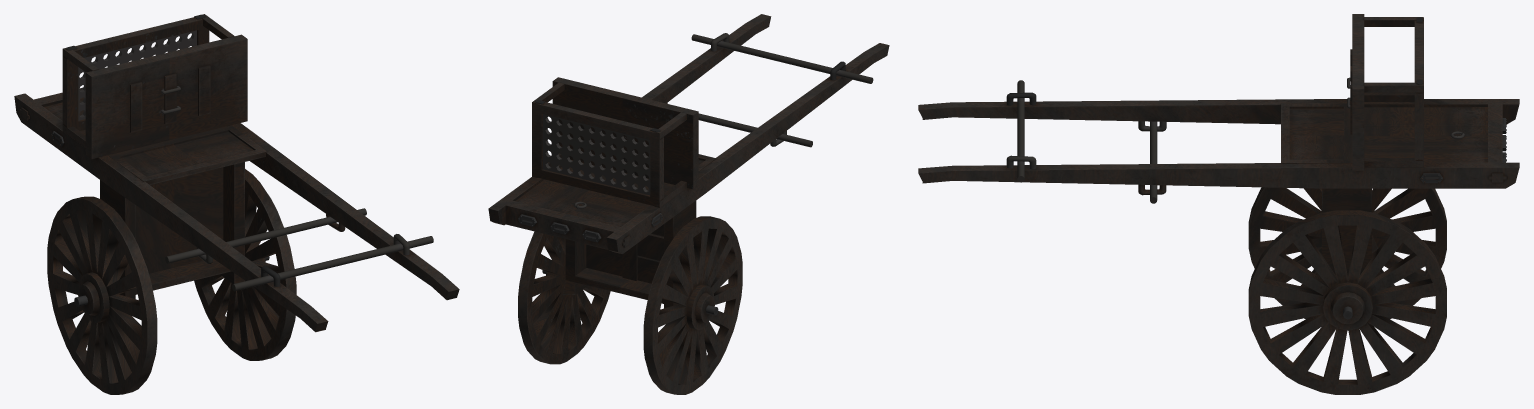
File: SM_Chongtong_Hwacha.fbx
3 renders of one model, left to right at view 1: azimuth 30°, elevation 25°; view 2: azimuth 150°, elevation 25°; view 3: azimuth 270°, elevation 25°, orthographic. The views are drawn at different scales.
Parts seen in each view (by area): view 1: SM_Chongtong_Hwacha; view 2: SM_Chongtong_Hwacha; view 3: SM_Chongtong_Hwacha.
Boxes of the visible parts, left/top/right/bottom form: SM_Chongtong_Hwacha: left=14, top=14, right=459, bottom=394; SM_Chongtong_Hwacha: left=488, top=14, right=889, bottom=394; SM_Chongtong_Hwacha: left=918, top=14, right=1519, bottom=394.
Bounding box in the file's own units: 96.55 × 256 × 145.
Materials: 1 (1 with a texture image).
